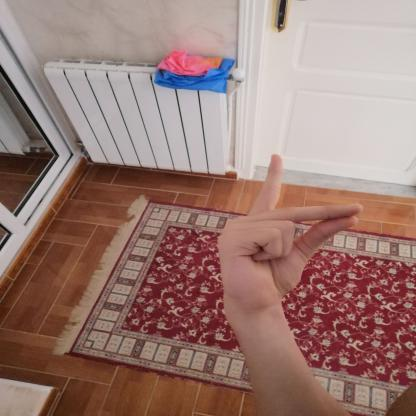TAA: (207, 145, 374, 319)
